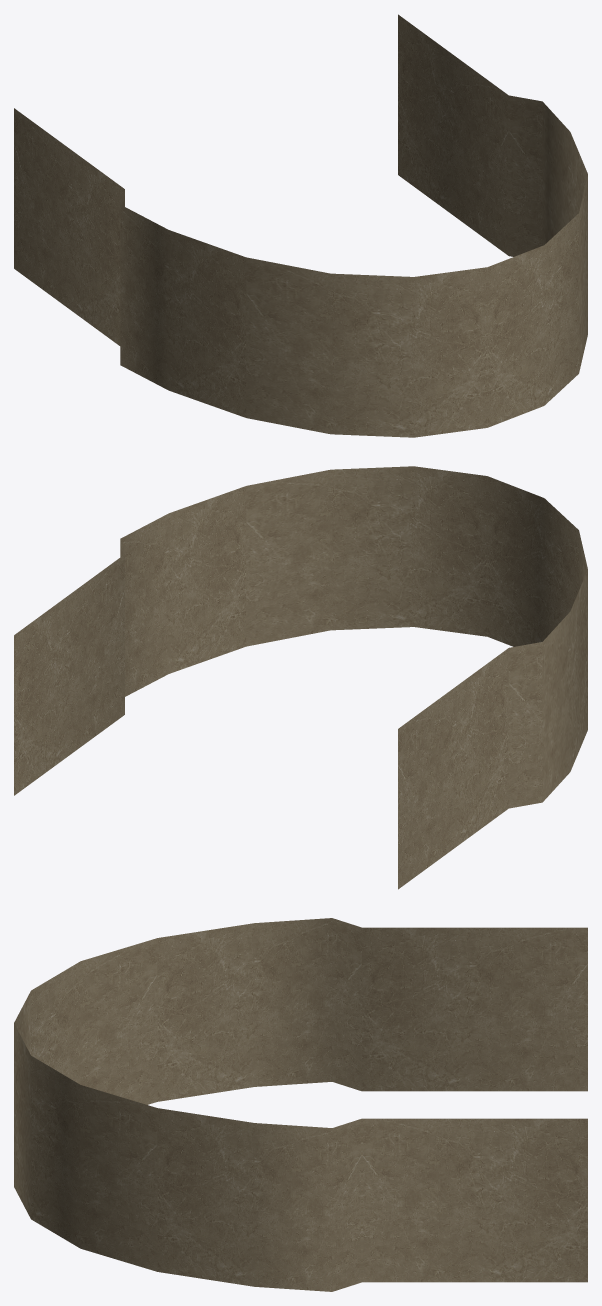
The model's file is Wall01_Maincity_001.FBX.
3 views of the same model, one above another, from view 1: azimuth 30°, elevation 25°; view 2: azimuth 150°, elevation 25°; view 3: azimuth 270°, elevation 25° (orthographic).
Visible parts, largest first — view 1: Wall01_Maincity_001; view 2: Wall01_Maincity_001; view 3: Wall01_Maincity_001.
Part boxes in pixels (x1=…): Wall01_Maincity_001: x1=14, y1=14, x2=587, y2=437; Wall01_Maincity_001: x1=14, y1=466, x2=587, y2=889; Wall01_Maincity_001: x1=14, y1=918, x2=587, y2=1291.
Bounding box in the file's own units: 2200 × 800 × 2540.
Materials: 1 (1 with a texture image).
